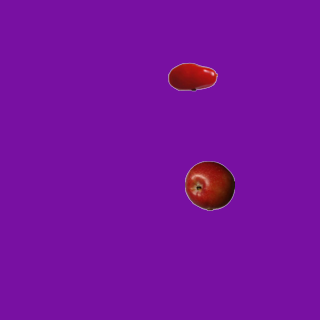Apple Braeburn: (184, 160, 234, 210)
Tomato 2: (167, 51, 217, 101)
